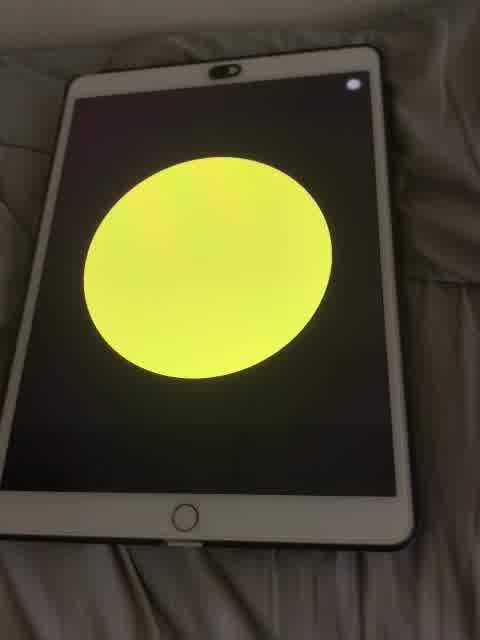left: (76, 149, 342, 392)
